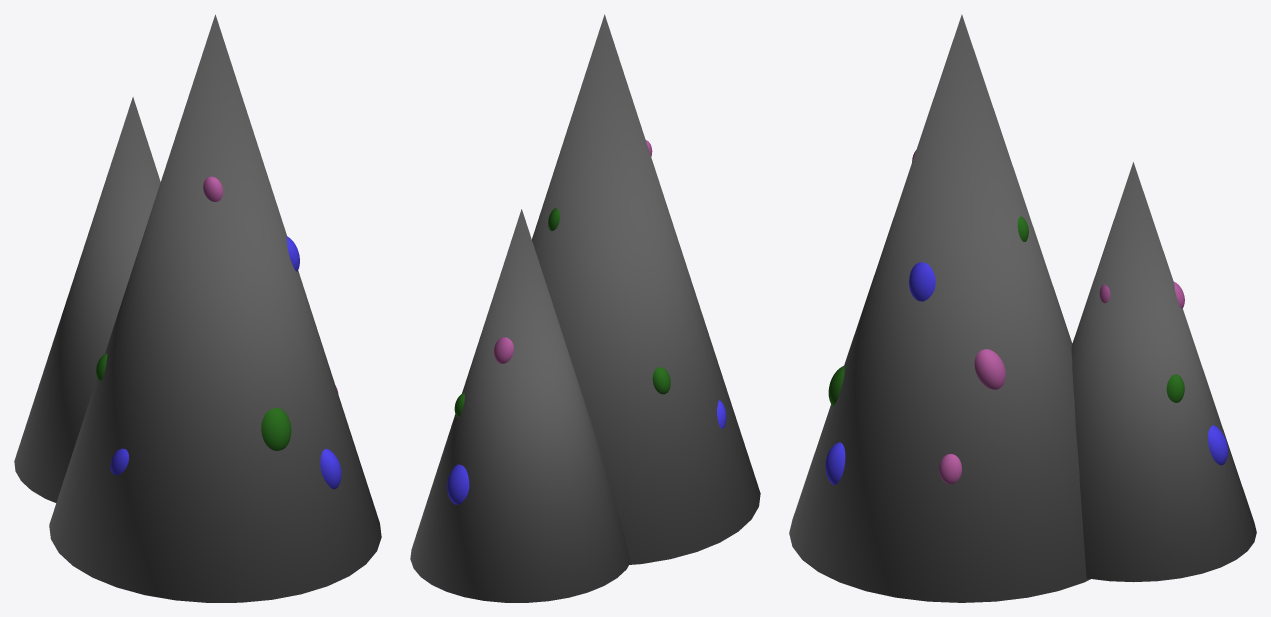
File: Rocher.fbx
The picture shows the model from 3 angles, left to right: view 1: azimuth 30°, elevation 25°; view 2: azimuth 150°, elevation 25°; view 3: azimuth 270°, elevation 25°; orthographic projection. The views are drawn at different scales.
Parts seen in each view (by area): view 1: Cone; view 2: Cone; view 3: Cone.
Boxes of the visible parts, <box> form: Cone: <box>14,14,381,602</box>; Cone: <box>410,14,760,602</box>; Cone: <box>789,14,1256,602</box>.
Bounding box in the file's own units: 31.98 × 55.47 × 45.29.
